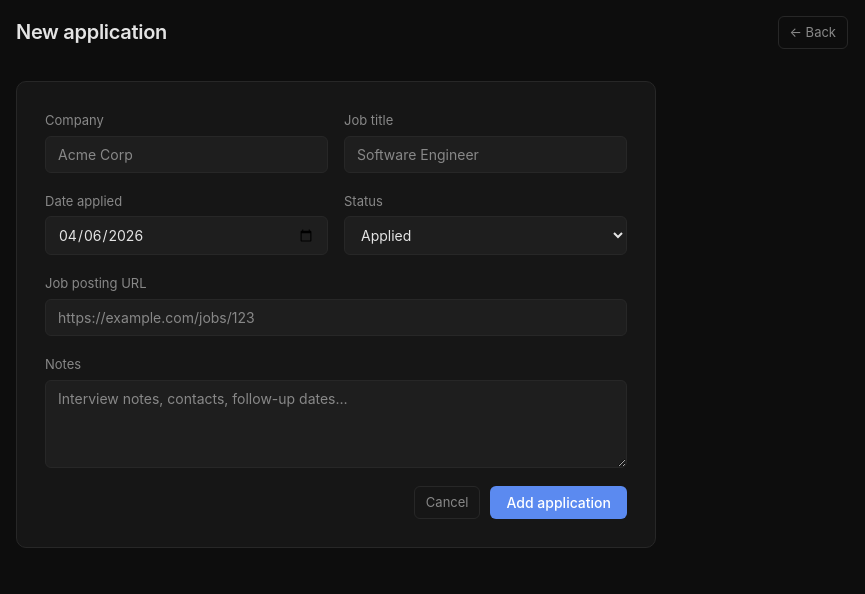
Test case: JobFormView › create mode (no :id param) › shows an error message when createJob throws
Type "Globex" into the field with id "company" at point(186, 154), box [45,136,328,173]
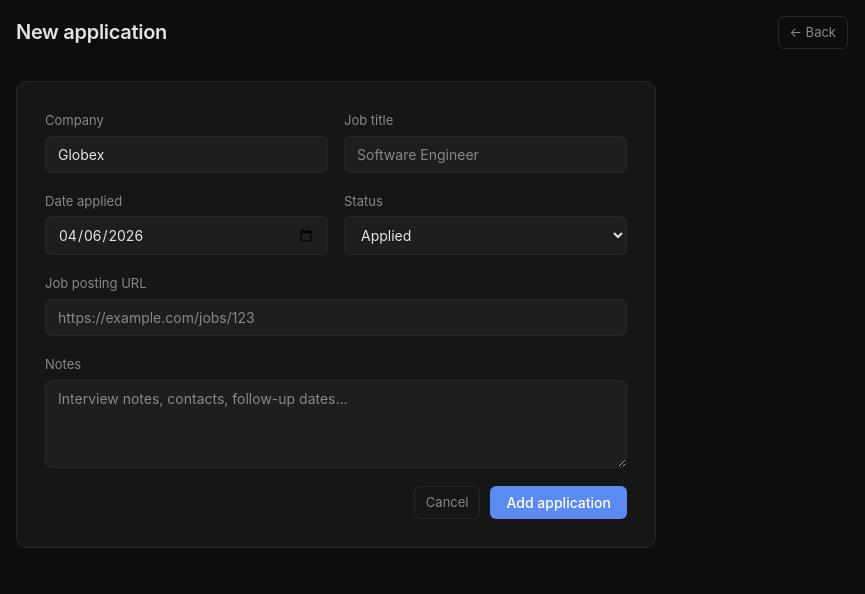
Type "Dev" into the field with id "title" at point(486, 154), box [344,136,627,173]
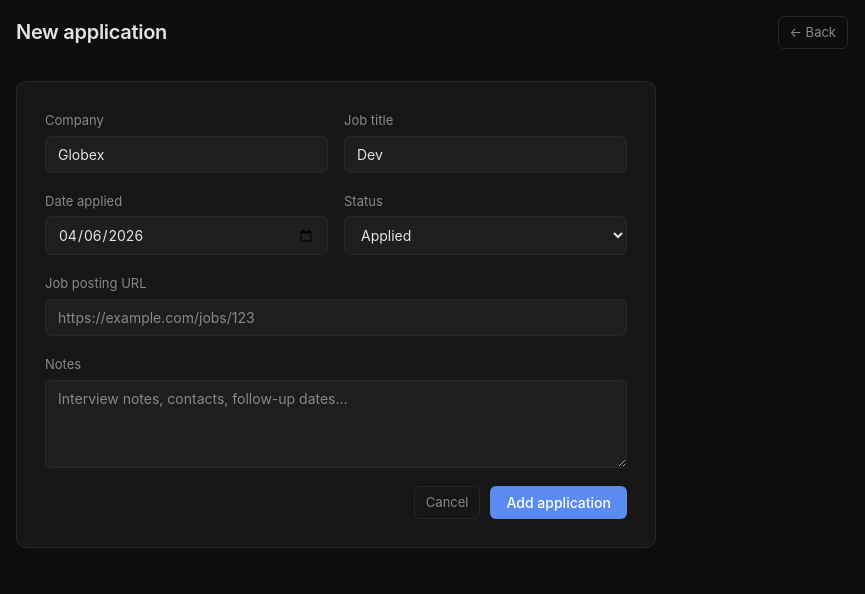
Type "2026-04-01" into the date field with id "dateApplied" at point(186, 236), box [45,216,328,255]
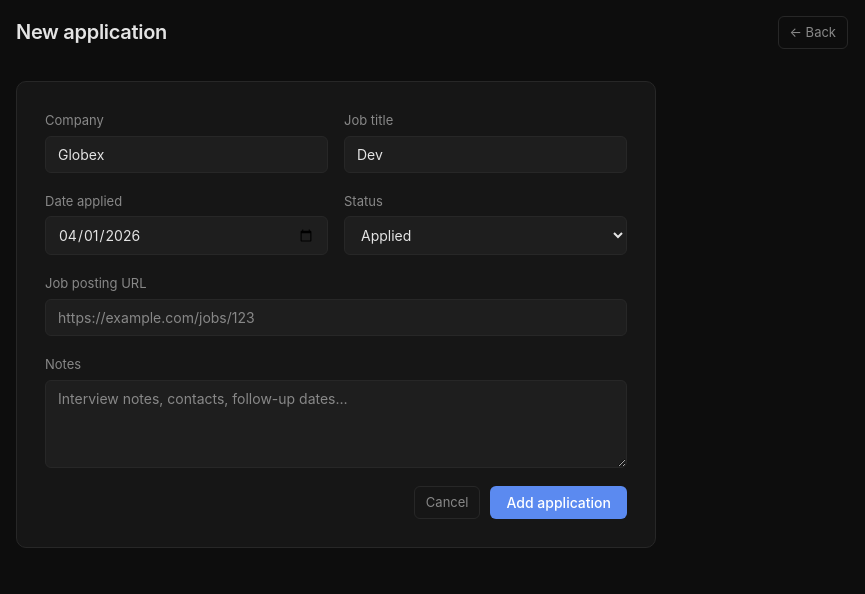
Select "Applied" in the dropdown with id "status" at point(486, 236), box [344,216,627,255]
Submit the form, box [16,81,656,548]
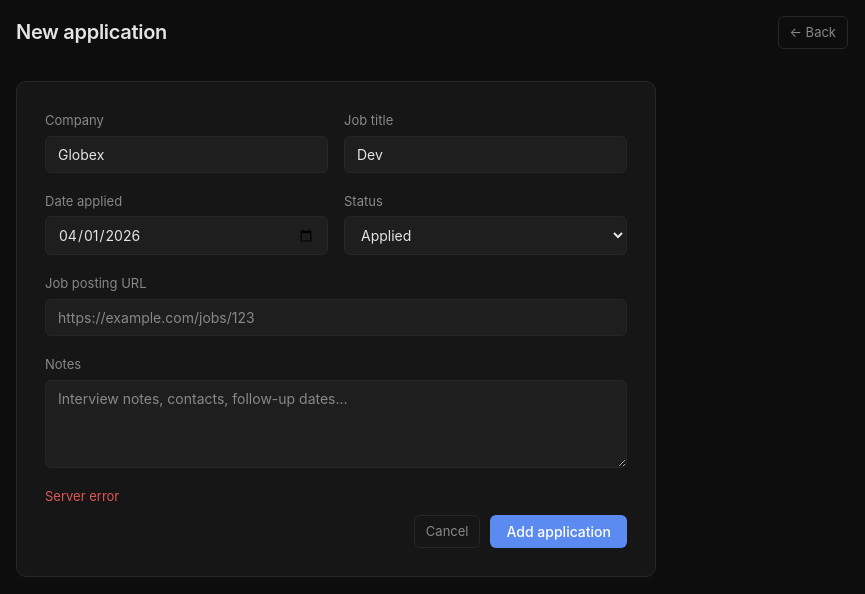
Expected: the text "Server error" is shown, [45,488,119,504]
